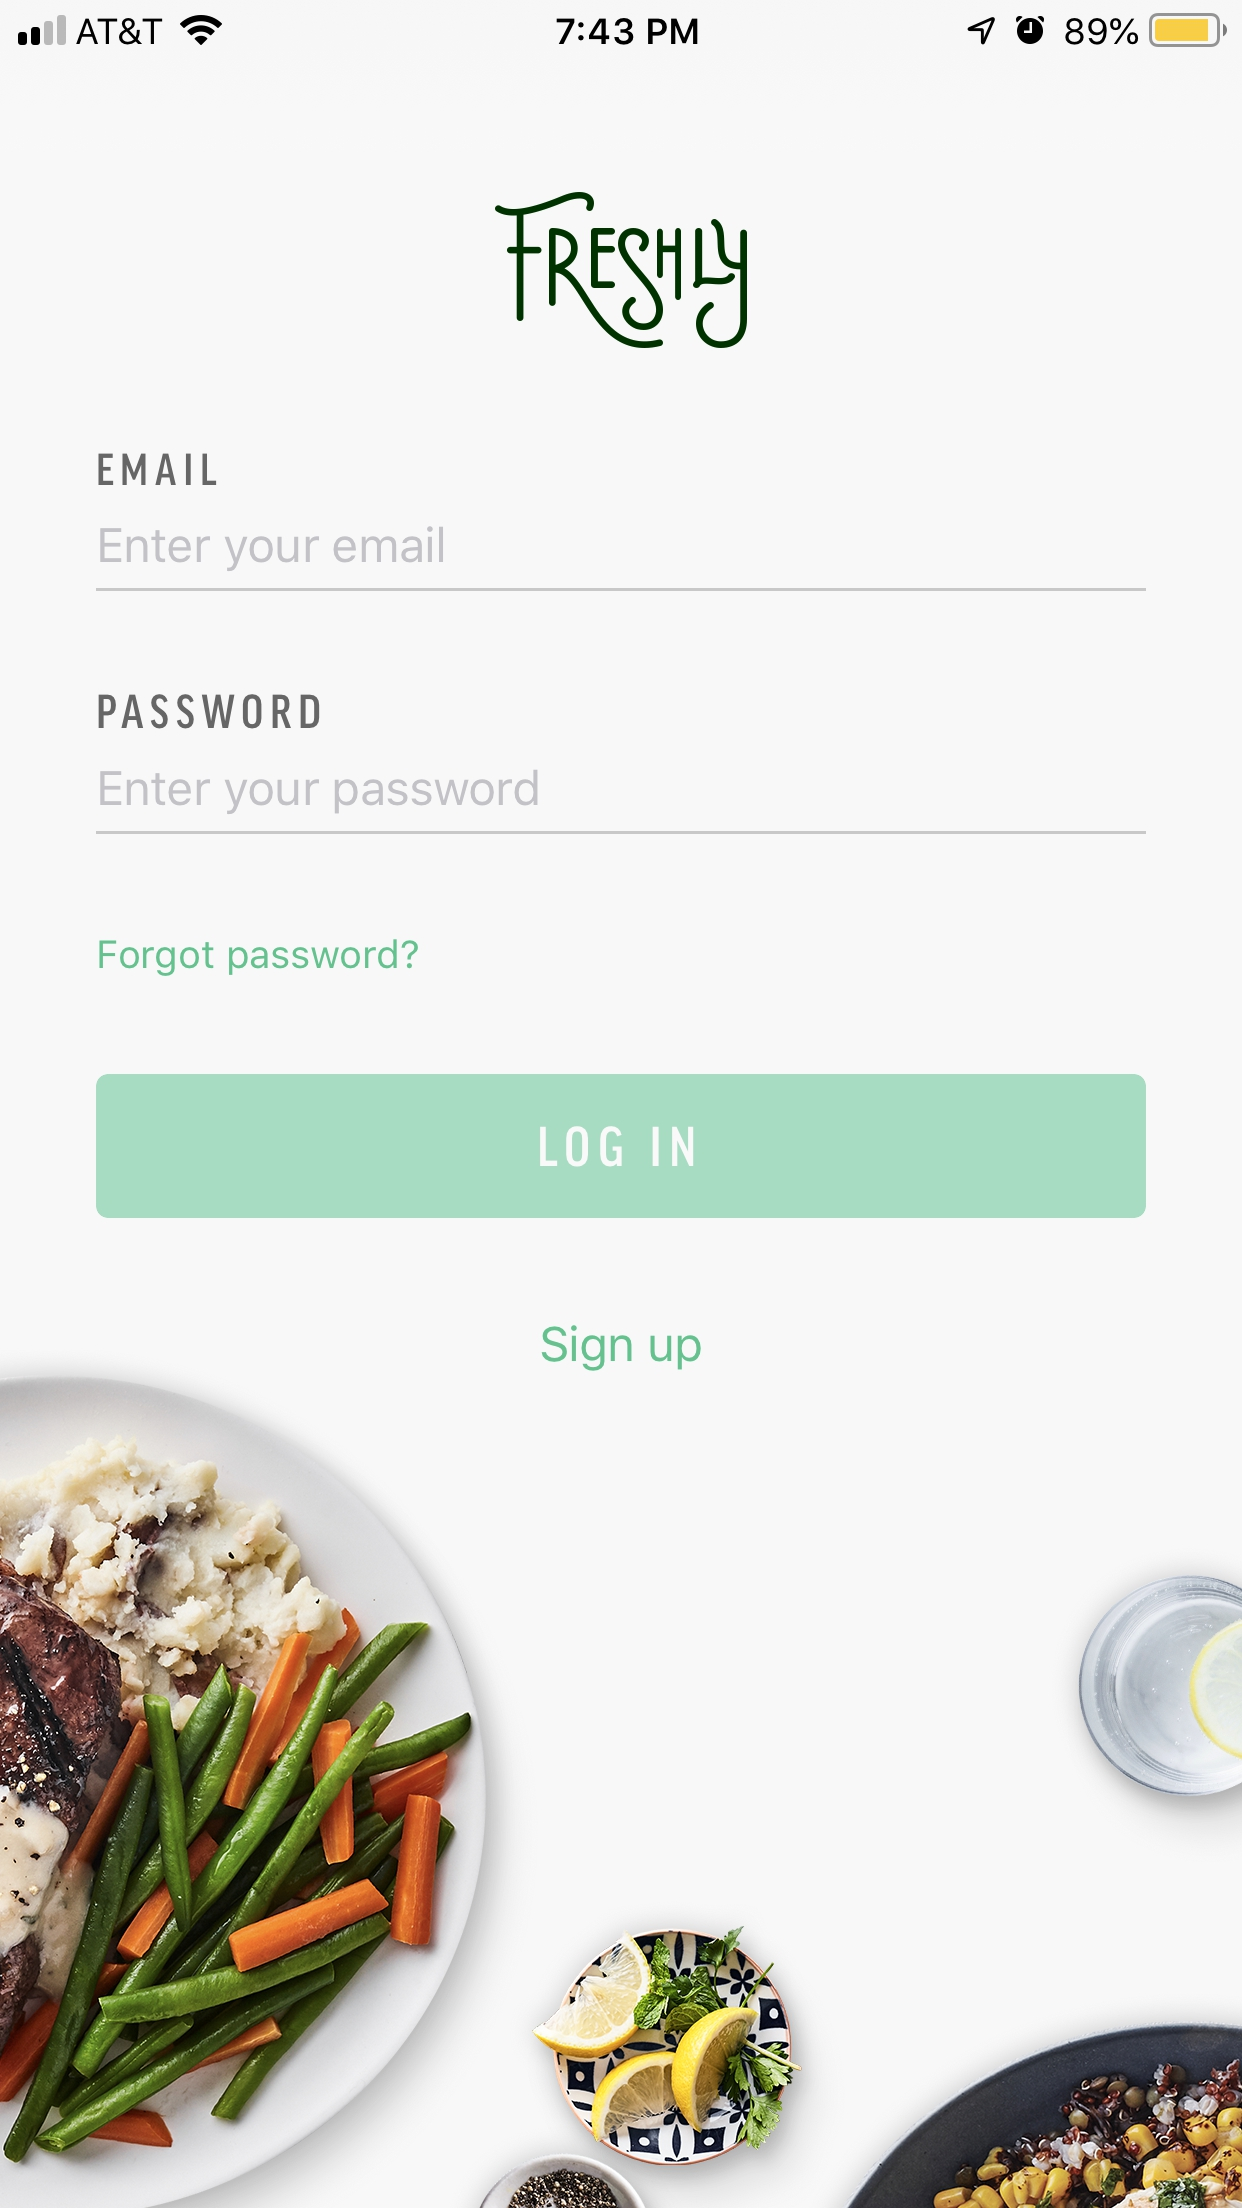EditText: (96, 525, 1148, 593), (96, 769, 1146, 836)
Image: (2, 1375, 1242, 2208), (494, 191, 749, 350)
Text: (100, 770, 538, 814), (100, 526, 444, 573), (100, 939, 420, 977), (541, 1324, 702, 1372), (99, 695, 321, 729), (97, 452, 218, 487)
TextButton: (97, 1074, 1146, 1219)
UpperTaskBar: (2, 2, 1242, 49)
